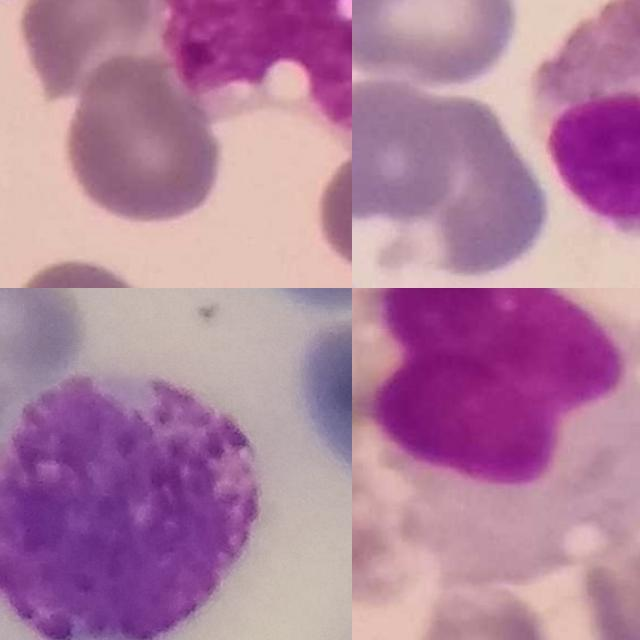Basophil: (0, 367, 264, 640)
Eosinophil: (529, 0, 640, 256)
Monocyte: (371, 288, 640, 541), (158, 0, 352, 157)
